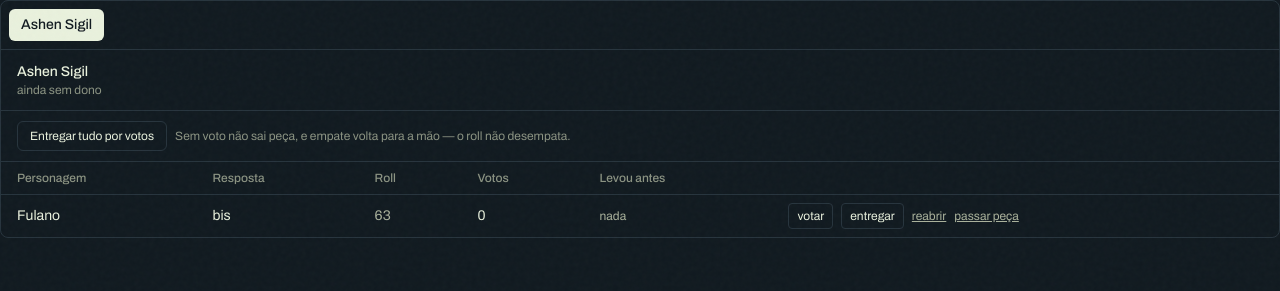
it: QuadroDoConselho › mostra a mensagem da API quando ela recusa
Click the button "entregar". click: (873, 216)
box: [841, 203, 904, 229]
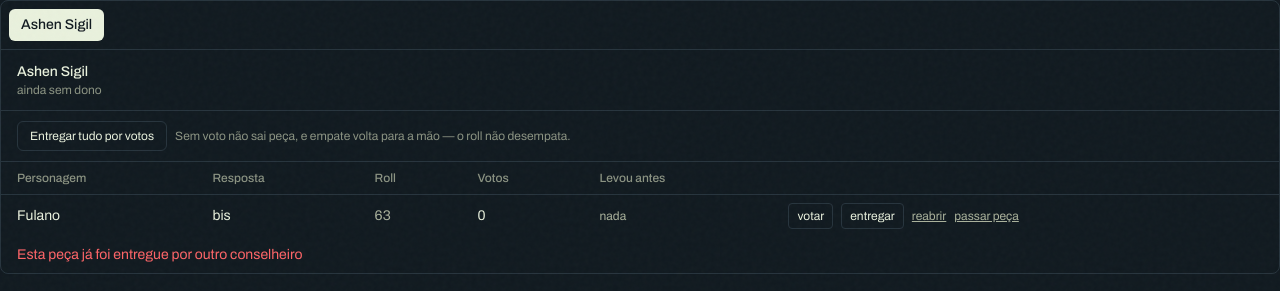
Now the text "Esta peça já foi entregue por outro conselheiro" is shown, box [17, 247, 302, 262]
